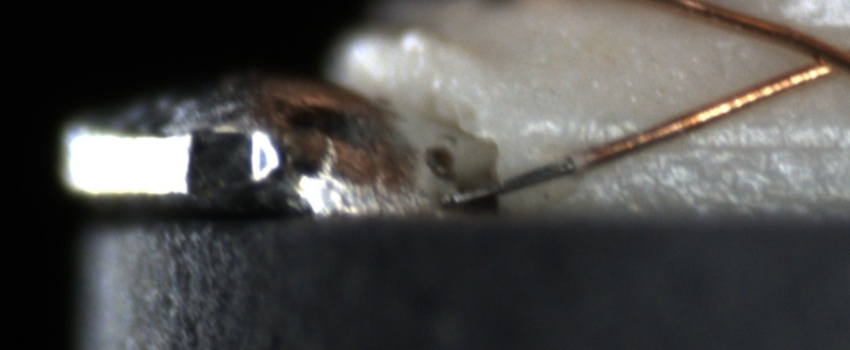CL: (790, 31, 850, 85)
DL: (618, 113, 850, 177)
TS: (443, 155, 580, 207)
